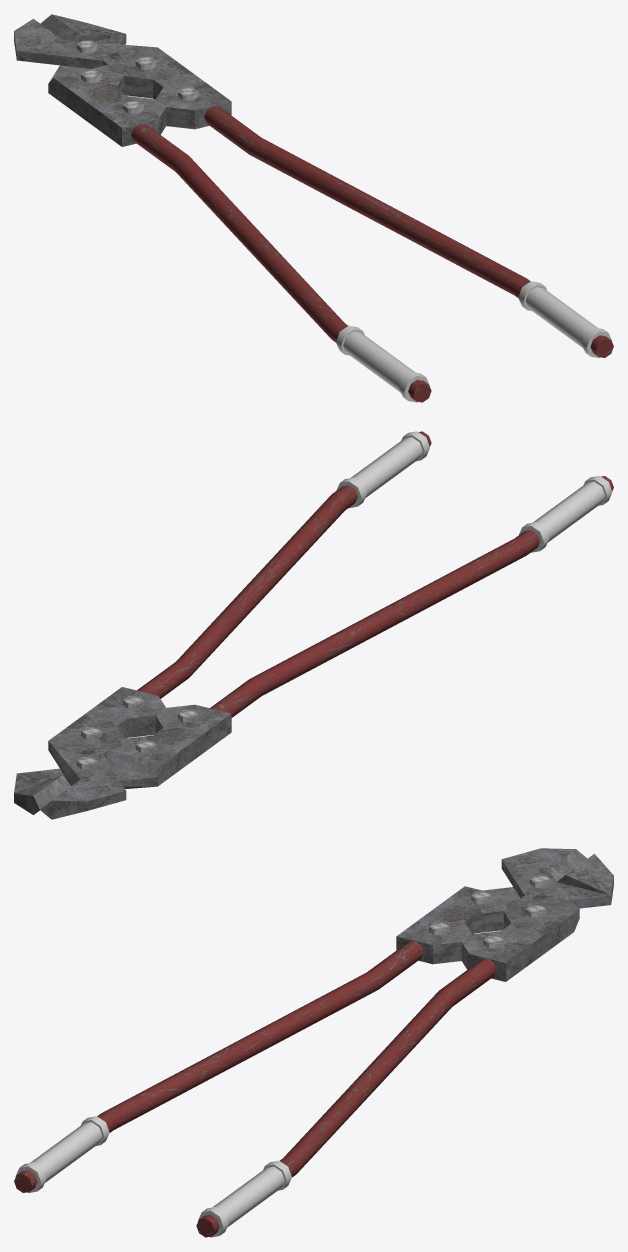
The model's file is BoltCutters.fbx.
The picture shows the model from 3 angles, top to bottom: view 1: azimuth 30°, elevation 25°; view 2: azimuth 150°, elevation 25°; view 3: azimuth 330°, elevation 25°; orthographic projection.
Parts seen in each view (by area): view 1: Vert.001, Cube.005, Vert.002, Cube.004, Cylinder.001, Cylinder.005; view 2: Vert.002, Cube.004, Cube.005, Vert.001, Cylinder.001, Cylinder.005; view 3: Vert.002, Cube.005, Cube.004, Vert.001, Cylinder.005, Cylinder.001.
Boxes of the visible parts, bbox=[...] form: Vert.001: bbox=[204, 106, 613, 357]; Cube.005: bbox=[14, 19, 231, 129]; Vert.002: bbox=[131, 123, 431, 402]; Cube.004: bbox=[40, 14, 166, 146]; Cylinder.001: bbox=[336, 325, 429, 402]; Cylinder.005: bbox=[518, 281, 612, 358]; Vert.002: bbox=[210, 476, 613, 717]; Cube.004: bbox=[14, 704, 231, 814]; Cube.005: bbox=[40, 687, 165, 819]; Vert.001: bbox=[137, 431, 431, 698]; Cylinder.001: bbox=[519, 475, 612, 552]; Cylinder.005: bbox=[336, 431, 429, 508]; Vert.002: bbox=[14, 941, 423, 1192]; Cube.005: bbox=[461, 848, 587, 981]; Cube.004: bbox=[396, 854, 613, 964]; Vert.001: bbox=[196, 958, 496, 1237]; Cylinder.005: bbox=[198, 1160, 291, 1237]; Cylinder.001: bbox=[15, 1116, 109, 1192].
Bounding box in the file's own units: 114 × 15 × 450.
